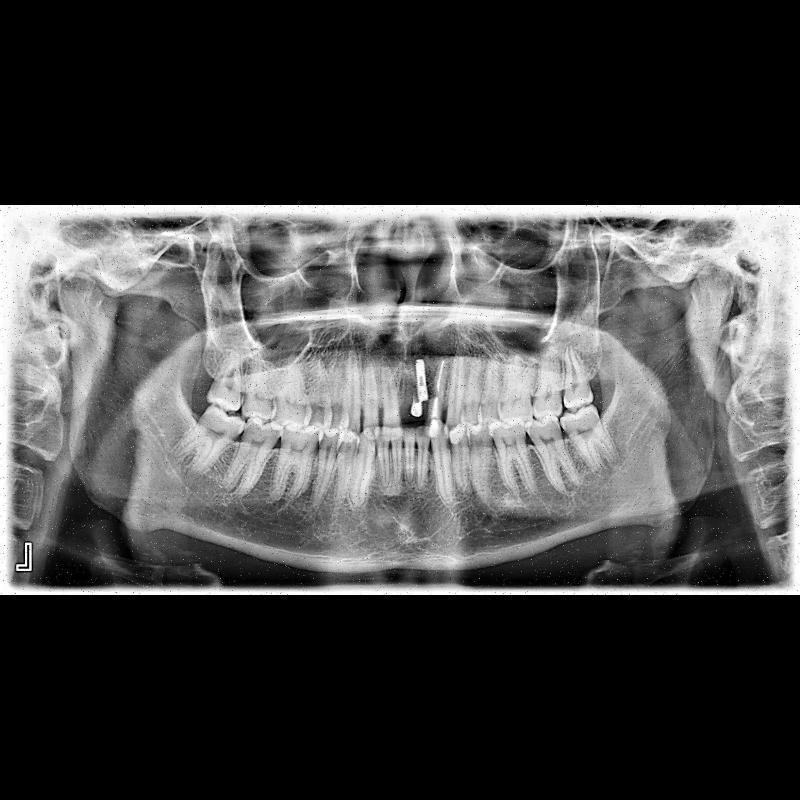osstem: (406, 356, 436, 402)
